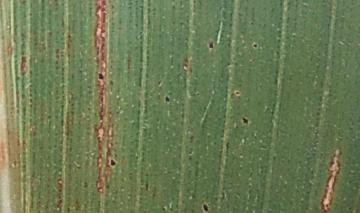tarspot: (201, 202, 210, 213), (240, 114, 249, 124), (163, 95, 171, 104), (208, 39, 214, 50), (97, 72, 105, 80), (109, 158, 116, 167), (251, 42, 259, 49), (233, 90, 241, 96)
